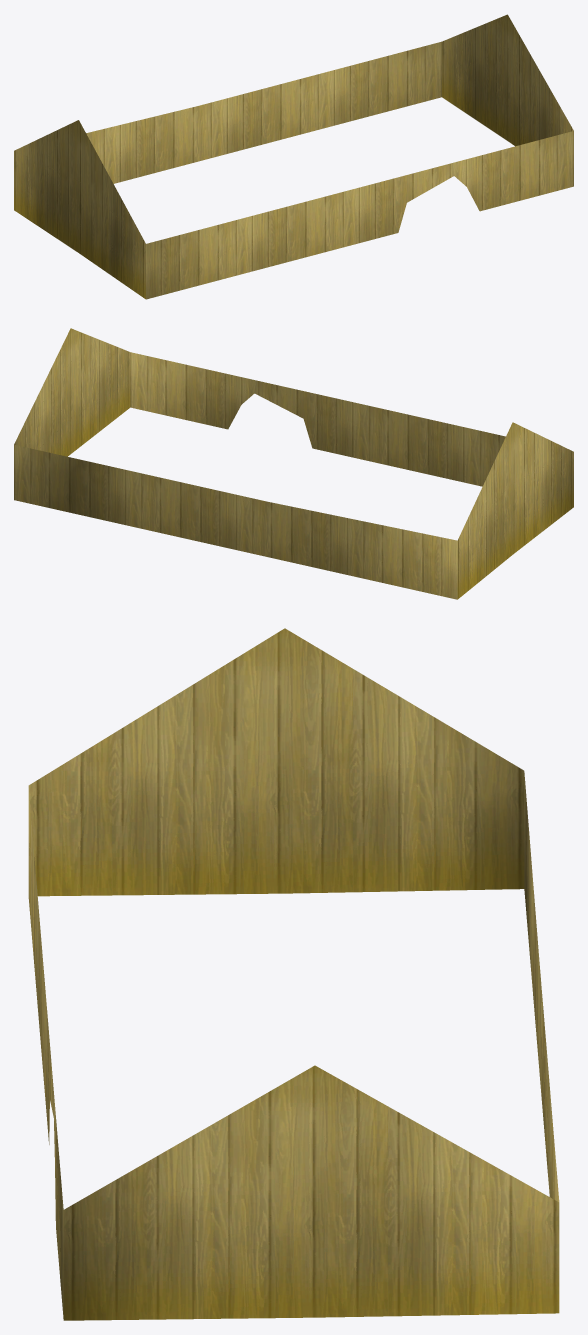
File: HTOWN01_GREENDRAGWALLS.fbx
3 views of the same model, one above another, from view 1: azimuth 30°, elevation 25°; view 2: azimuth 150°, elevation 25°; view 3: azimuth 270°, elevation 25° (orthographic). The views are drawn at different scales.
Visible parts, largest first — view 1: HTOWN01_GREENDRAGWALLS; view 2: HTOWN01_GREENDRAGWALLS; view 3: HTOWN01_GREENDRAGWALLS.
Boxes of the visible parts, <box> form: HTOWN01_GREENDRAGWALLS: <box>14,14,573,299</box>; HTOWN01_GREENDRAGWALLS: <box>14,328,573,599</box>; HTOWN01_GREENDRAGWALLS: <box>28,628,559,1320</box>.
Bounding box in the file's own units: 93052 × 26678 × 48357.
1 material, 1 textured.
